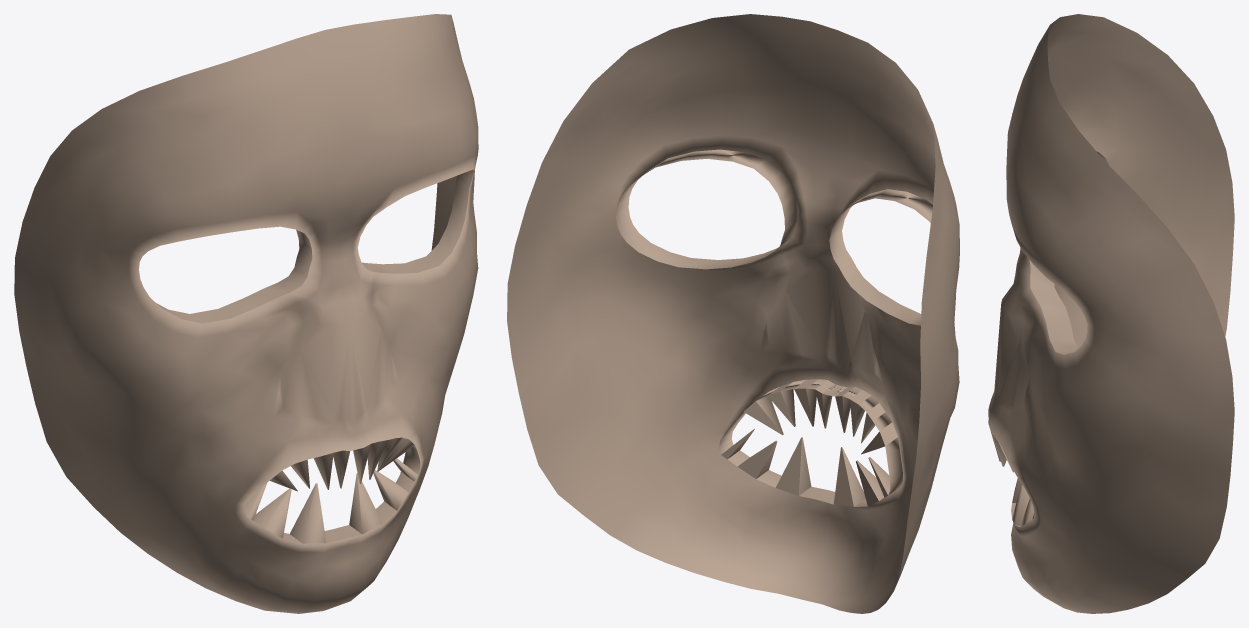
Rendered from Horror Clown mask.fbx.
The picture shows the model from 3 angles, left to right: view 1: azimuth 30°, elevation 25°; view 2: azimuth 150°, elevation 25°; view 3: azimuth 270°, elevation 25°; orthographic projection. The views are drawn at different scales.
Visible parts, largest first — view 1: mascaMesh; view 2: mascaMesh; view 3: mascaMesh.
Part boxes in pixels (x1=…): mascaMesh: x1=14, y1=14, x2=478, y2=613; mascaMesh: x1=507, y1=14, x2=959, y2=613; mascaMesh: x1=988, y1=14, x2=1234, y2=613.
Size of the model in its own units: 73.14 by 96.59 by 39.29.
